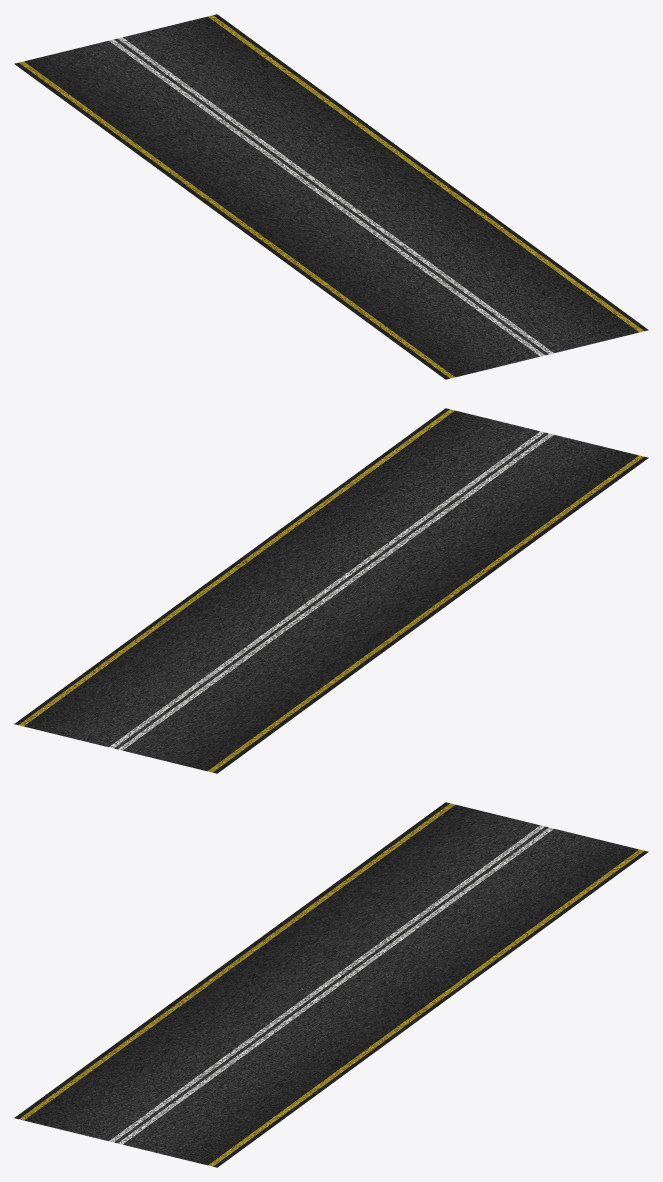
File: road.fbx
The picture shows the model from 3 angles, top to bottom: view 1: azimuth 30°, elevation 25°; view 2: azimuth 150°, elevation 25°; view 3: azimuth 330°, elevation 25°; orthographic projection.
Visible parts, largest first — view 1: pPlane2; view 2: pPlane2; view 3: pPlane2.
Boxes of the visible parts, x1,y1,x2,y2 form: pPlane2: (14,14,648,379); pPlane2: (14,408,648,773); pPlane2: (14,802,648,1167).
Bounding box in the file's own units: 802 × 2.22e-14 × 2951.
1 material, 1 textured.
